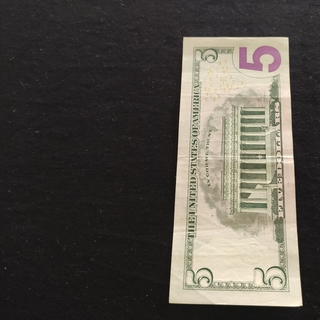5USDBack: (167, 36, 303, 308)
